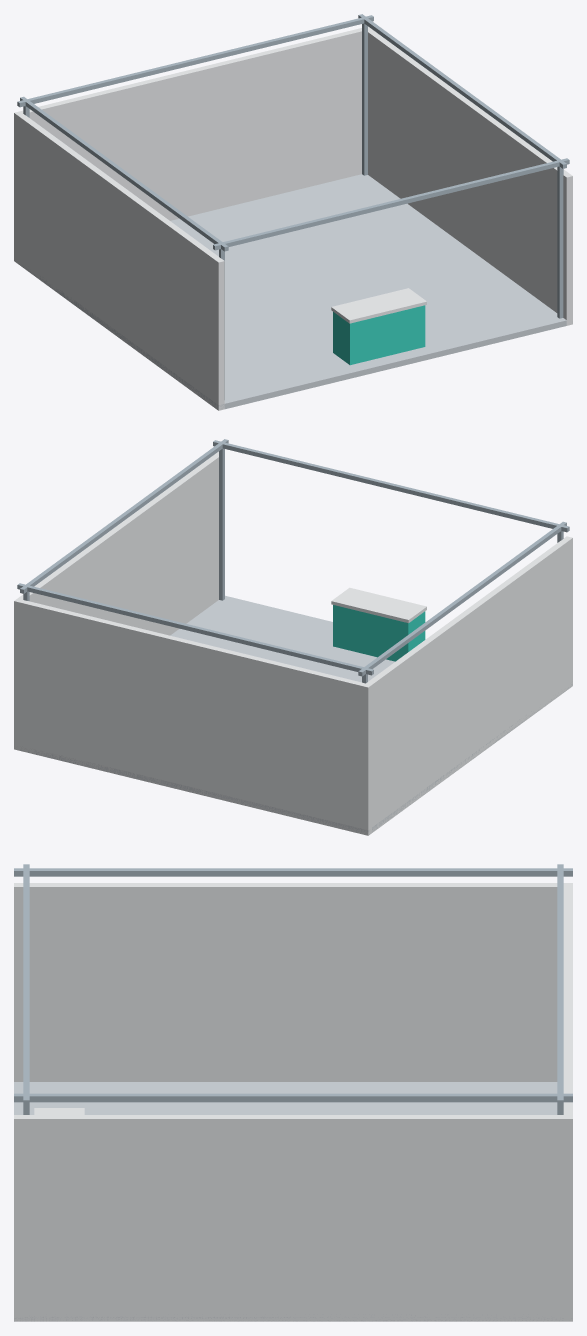
3 renders of one model, top to bottom at view 1: azimuth 30°, elevation 25°; view 2: azimuth 150°, elevation 25°; view 3: azimuth 270°, elevation 25°, orthographic. The views are drawn at different scales.
Parts seen in each view (by area): view 1: Exhibition Booth Concept; view 2: Exhibition Booth Concept; view 3: Exhibition Booth Concept.
Part boxes in pixels (bbox=[...]): Exhibition Booth Concept: bbox=[14, 14, 572, 410]; Exhibition Booth Concept: bbox=[14, 439, 572, 835]; Exhibition Booth Concept: bbox=[14, 864, 572, 1321].
Bounding box in the file's own units: 8 × 3.49 × 8.
